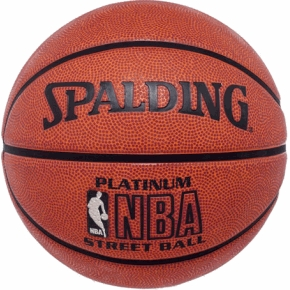basketball: (2, 1, 288, 290)
